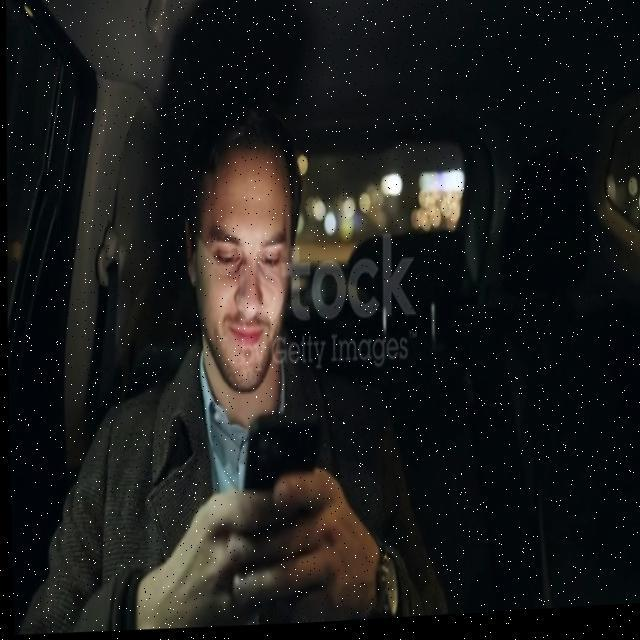PhoneCall: (238, 406, 320, 594)
